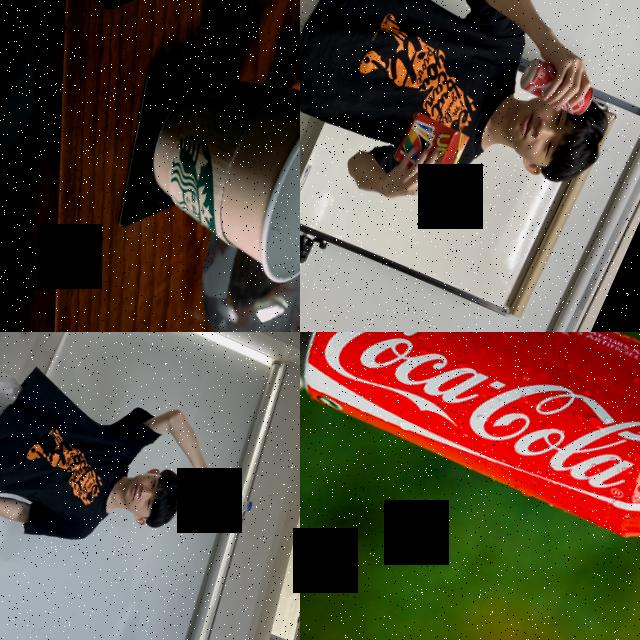bottle: (183, 474, 256, 534)
can: (300, 332, 640, 568), (515, 56, 598, 120)
cup: (118, 26, 300, 298)
